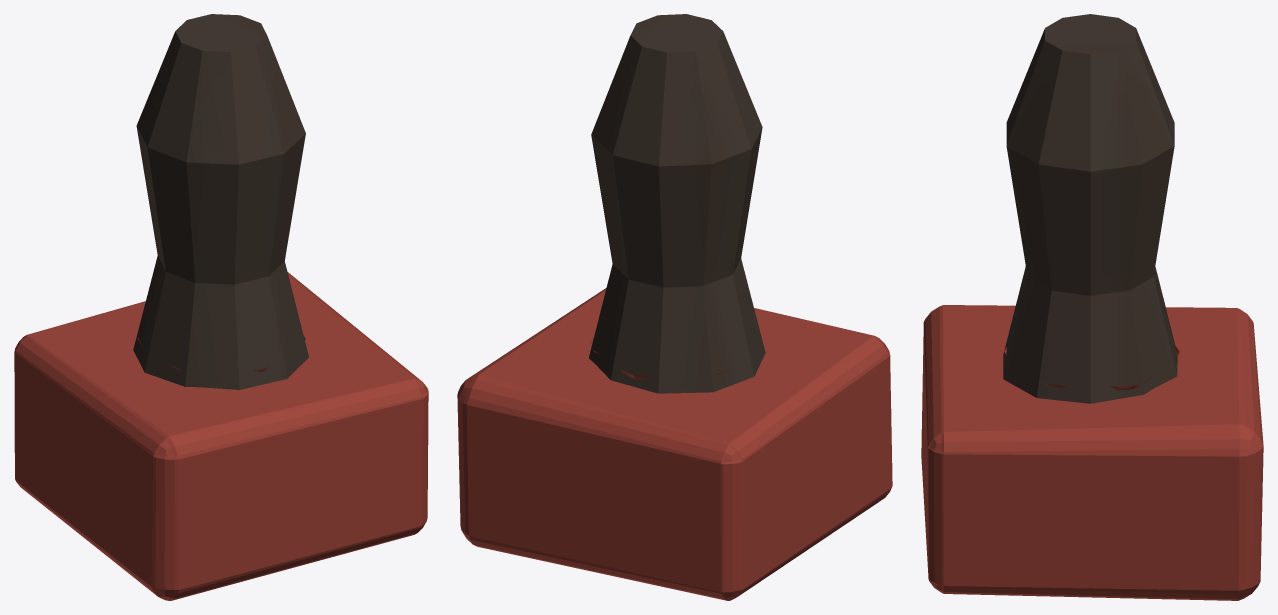
File: PR_SealStamp.glb
3 views of the same model, side by side, from view 1: azimuth 30°, elevation 25°; view 2: azimuth 150°, elevation 25°; view 3: azimuth 270°, elevation 25° (orthographic). The views are drawn at different scales.
Visible parts, largest first — view 1: PR_SealStamp; view 2: PR_SealStamp; view 3: PR_SealStamp.
Boxes of the visible parts, x1,y1,x2,y2 form: PR_SealStamp: (14,14,428,600); PR_SealStamp: (457,14,892,600); PR_SealStamp: (921,14,1263,600).
Bounding box in the file's own units: 0.0929 × 0.1509 × 0.0929.
2 materials, 1 textured.
